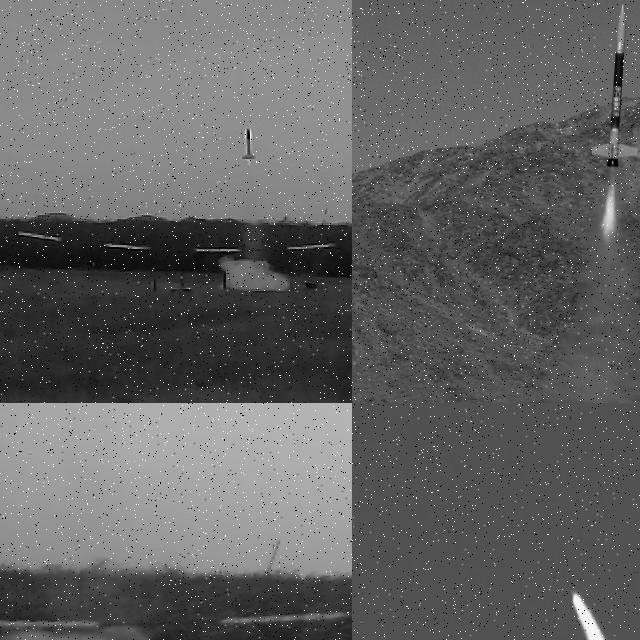Rocket: (590, 4, 639, 168), (241, 128, 256, 160), (572, 588, 576, 600)
